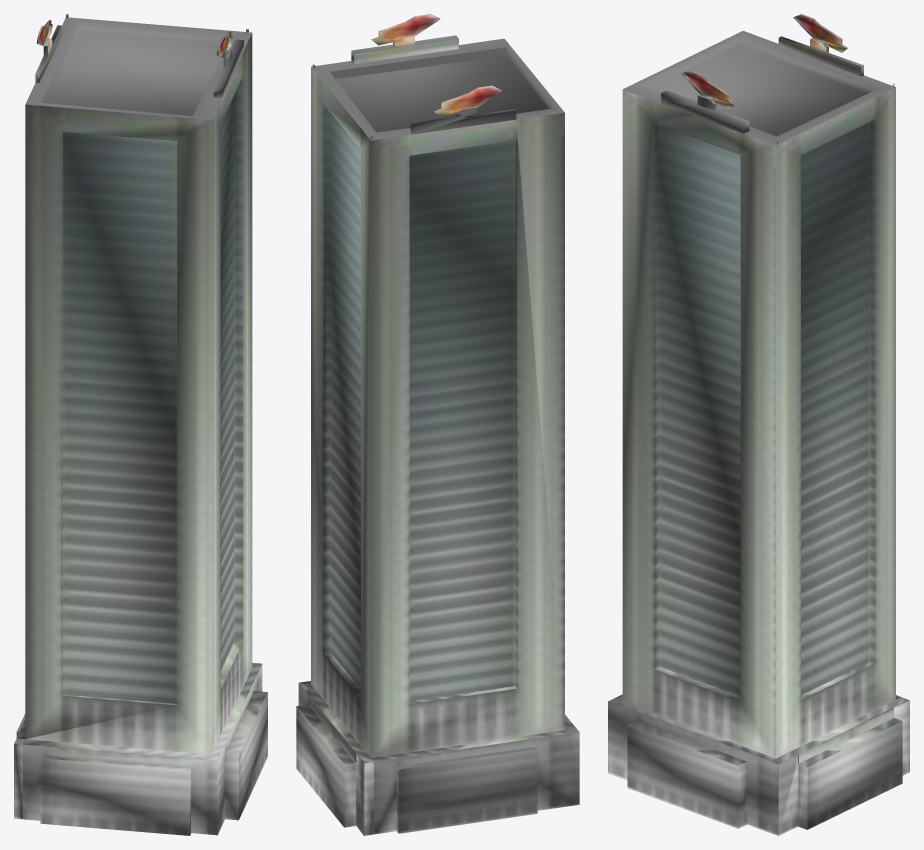
Rendered from Government_Office.dae.
The picture shows the model from 3 angles, left to right: view 1: azimuth 30°, elevation 25°; view 2: azimuth 150°, elevation 25°; view 3: azimuth 270°, elevation 25°; orthographic projection. The views are drawn at different scales.
Parts seen in each view (by area): view 1: _Beige_1_001, _Safety_Glass_1_001, FrontColor_001; view 2: _Beige_1_001, _Safety_Glass_1_001, FrontColor_001; view 3: _Beige_1_001, _Safety_Glass_1_001, FrontColor_001.
Boxes of the visible parts, x1,y1,x2,y2 form: _Beige_1_001: (14, 20, 267, 835); _Safety_Glass_1_001: (25, 17, 251, 119); FrontColor_001: (14, 25, 243, 744); _Beige_1_001: (296, 14, 579, 835); _Safety_Glass_1_001: (311, 38, 564, 140); FrontColor_001: (307, 35, 578, 769); _Beige_1_001: (608, 14, 909, 835); _Safety_Glass_1_001: (623, 31, 895, 145); FrontColor_001: (661, 36, 863, 763).
Bounding box in the file's own units: 72.23 × 72.84 × 193.
Materials: 3 (3 with a texture image).
